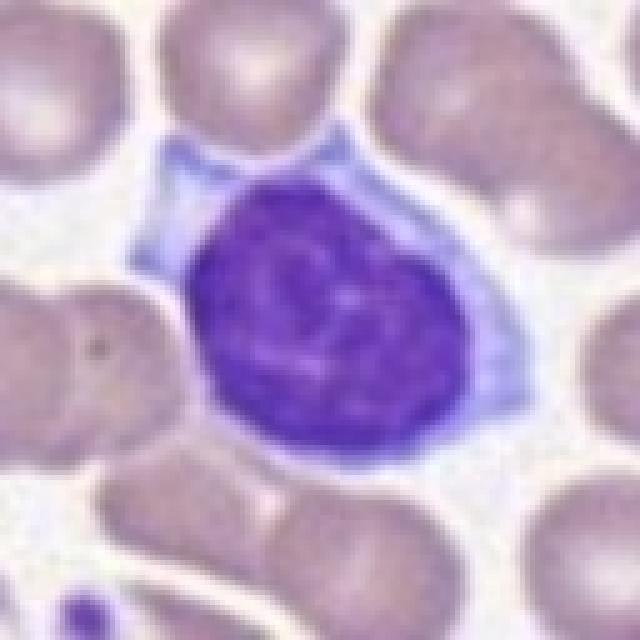lympho: (120, 105, 546, 472)
